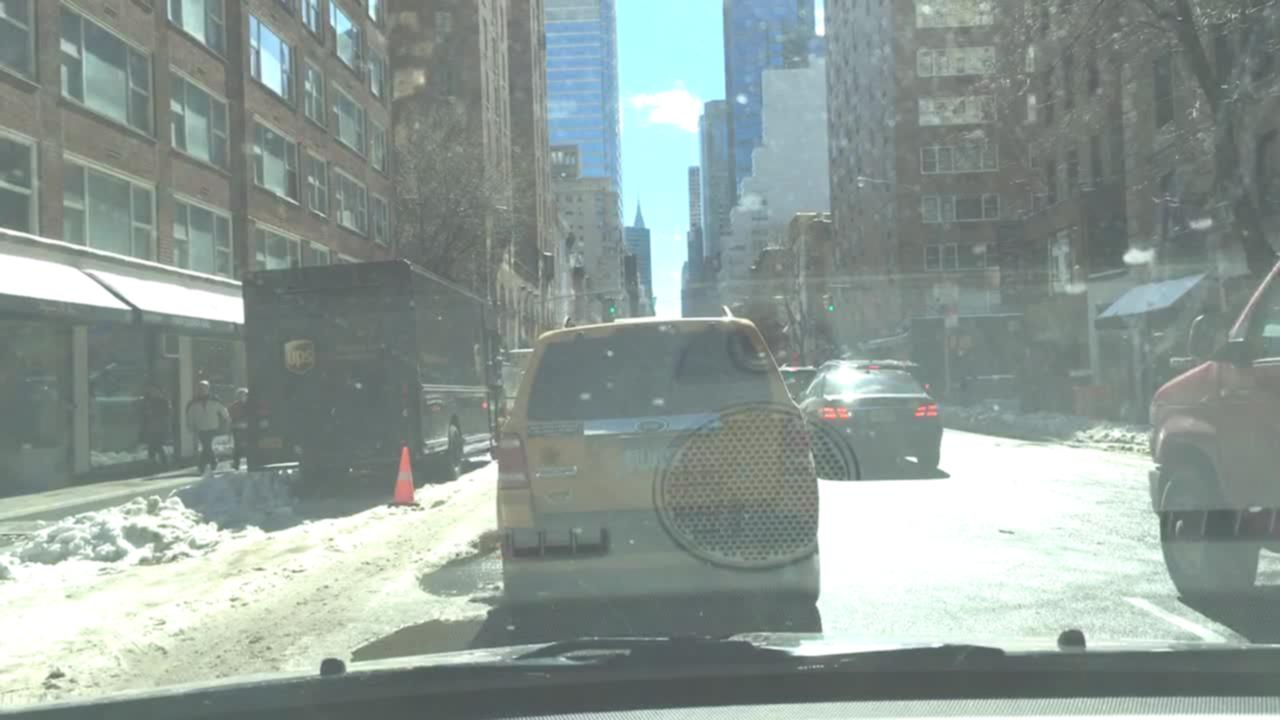ford: (633, 416, 671, 436)
